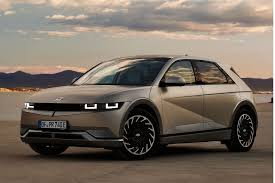Honda Ioniq: (15, 50, 262, 171)
